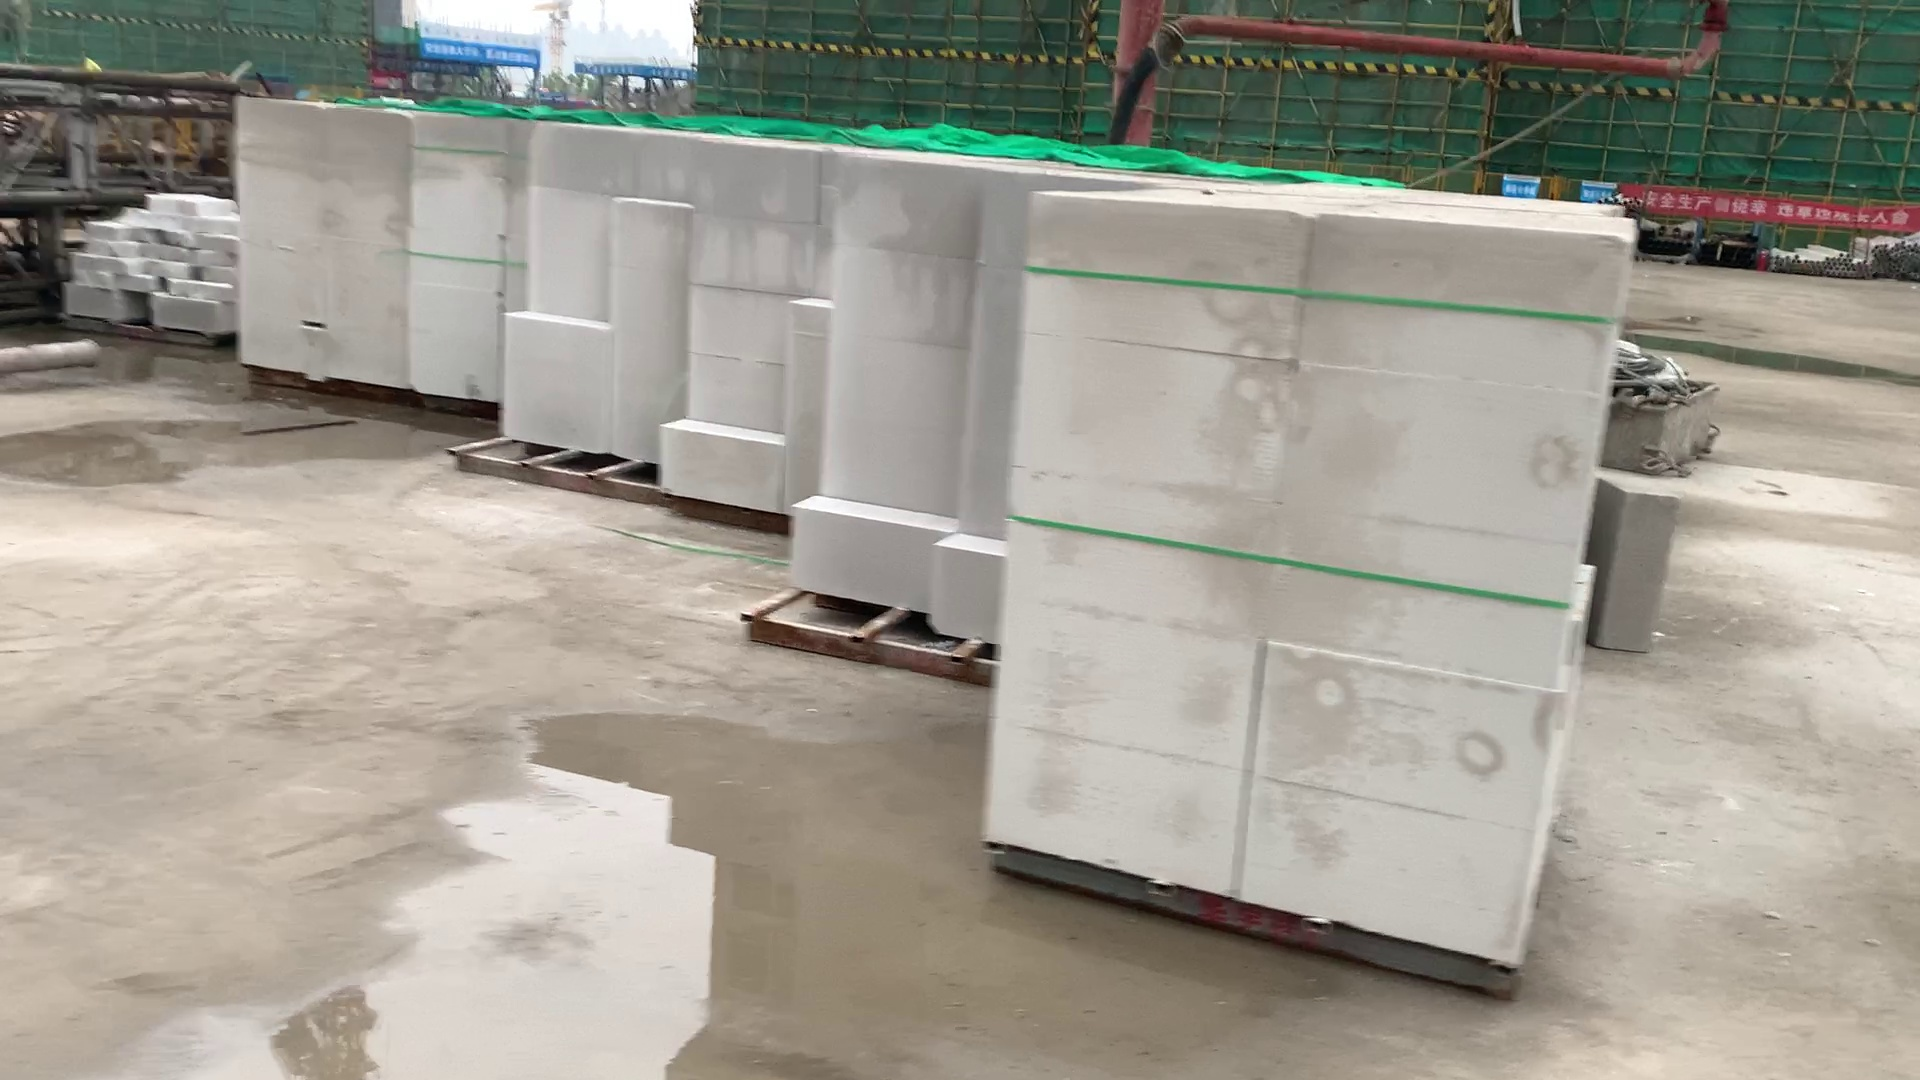brickwork: (1014, 195, 1625, 982), (814, 150, 1004, 658), (508, 127, 676, 462), (679, 135, 820, 516), (231, 100, 407, 393), (407, 116, 514, 406)
